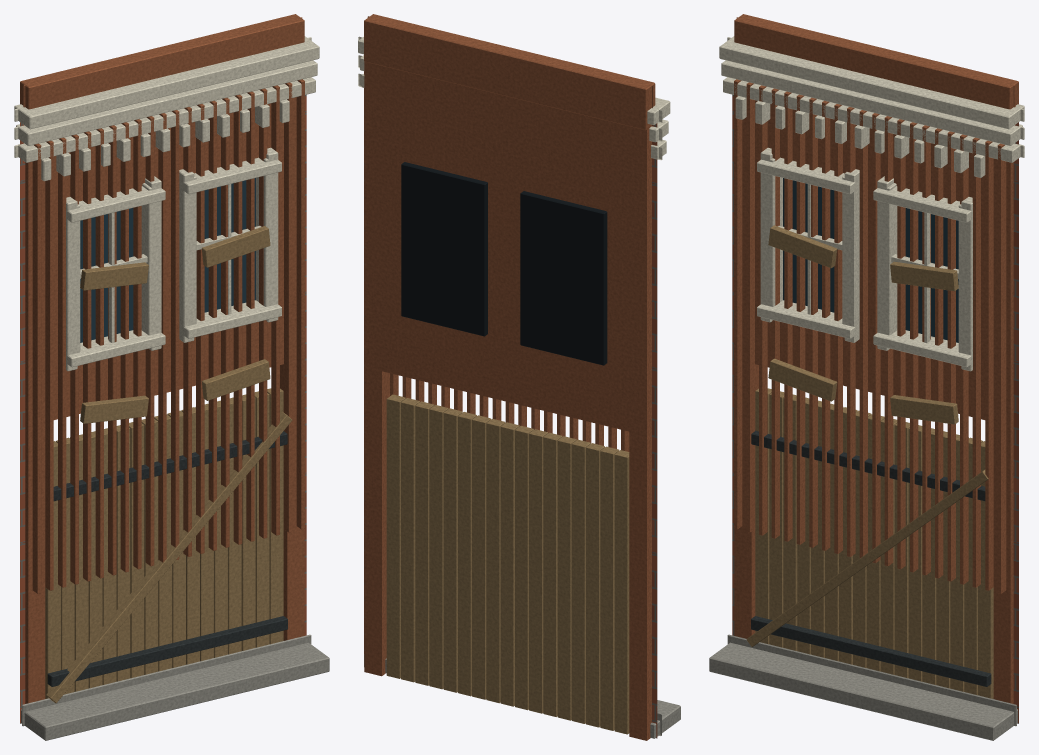
File: CLSTGA20_lod1.glb
The picture shows the model from 3 angles, left to right: view 1: azimuth 30°, elevation 25°; view 2: azimuth 150°, elevation 25°; view 3: azimuth 330°, elevation 25°; orthographic projection. The views are drawn at different scales.
Visible parts, largest first — view 1: CLSTGA20_FRONT_LOD1; view 2: CLSTGA20_FRONT_LOD1; view 3: CLSTGA20_FRONT_LOD1.
Boxes of the visible parts, x1=… form: CLSTGA20_FRONT_LOD1: x1=14, y1=14, x2=329, y2=740; CLSTGA20_FRONT_LOD1: x1=358, y1=14, x2=680, y2=740; CLSTGA20_FRONT_LOD1: x1=709, y1=14, x2=1024, y2=740.
Size of the model in its own units: 3.44 by 7.05 by 0.65.
9 materials, 7 textured.
